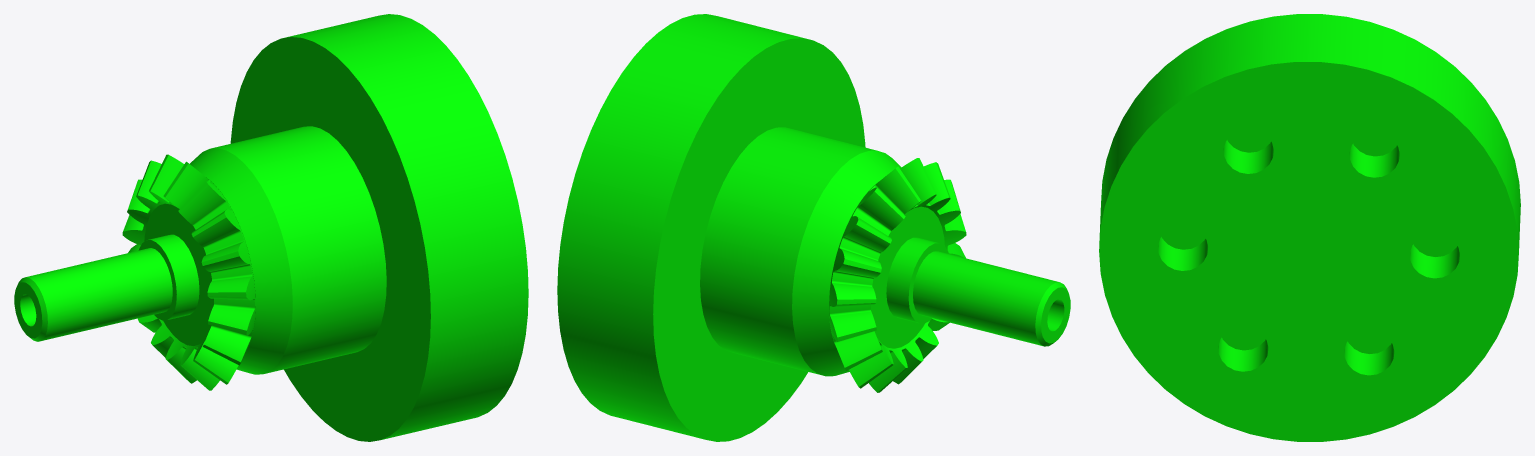
File: 8_diff_tool_link.glb
The picture shows the model from 3 angles, left to right: view 1: azimuth 30°, elevation 25°; view 2: azimuth 150°, elevation 25°; view 3: azimuth 270°, elevation 25°; orthographic projection.
Parts seen in each view (by area): view 1: Body1; view 2: Body1; view 3: Body1.
Boxes of the visible parts, x1=… form: Body1: x1=14, y1=14, x2=528, y2=441; Body1: x1=557, y1=14, x2=1070, y2=441; Body1: x1=1099, y1=14, x2=1520, y2=441.
Size of the model in its own units: 0.0557 by 0.0499 by 0.0502.
